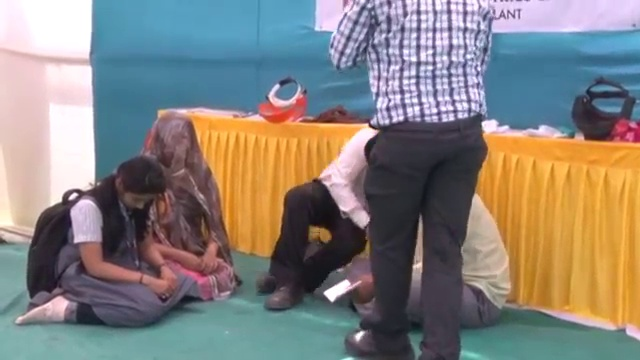helmet_off: (108, 154, 165, 213), (150, 114, 201, 178)
person: (328, 0, 493, 360), (15, 156, 194, 331), (347, 191, 515, 329), (256, 124, 378, 312), (138, 110, 235, 297)
